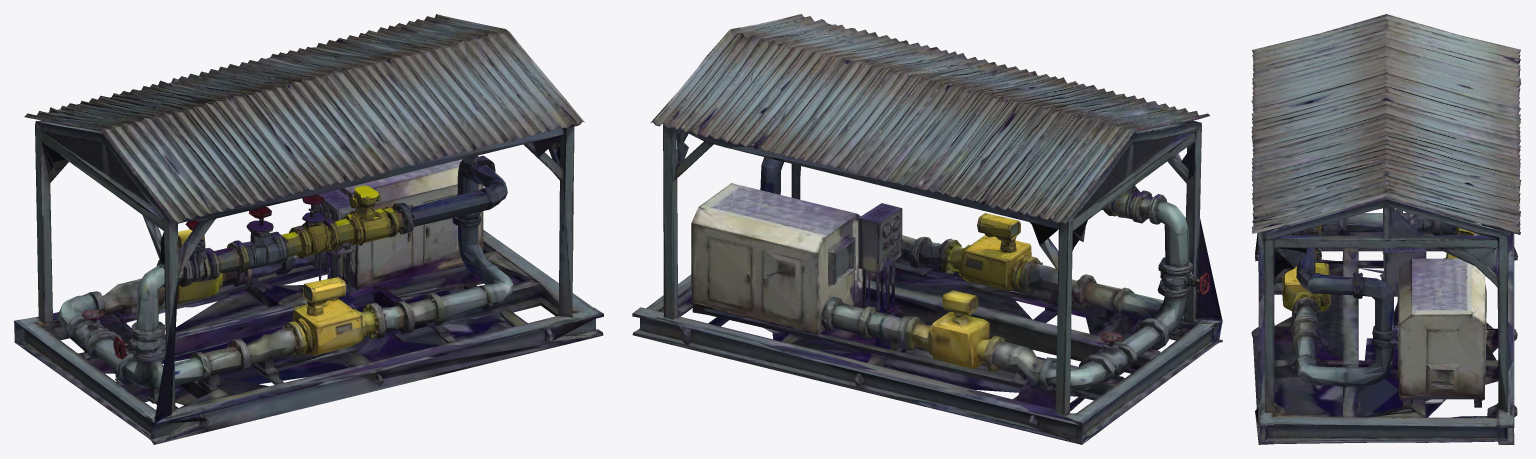
File: metering.glb
3 views of the same model, side by side, from view 1: azimuth 30°, elevation 25°; view 2: azimuth 150°, elevation 25°; view 3: azimuth 270°, elevation 25° (orthographic). The views are drawn at different scales.
Bounding box in the file's own units: 1.9 × 1.04 × 1.06.
Materials: 1 (1 with a texture image).
